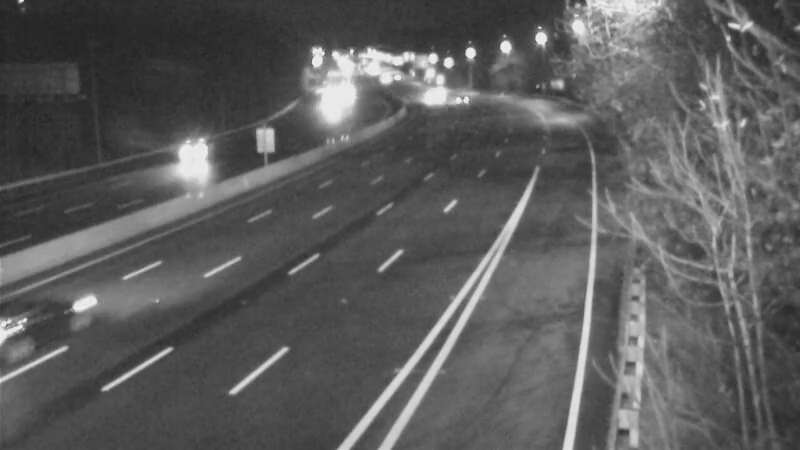vehicle: (1, 277, 95, 387), (156, 114, 236, 194), (414, 63, 464, 113), (401, 73, 451, 123), (433, 73, 483, 123)
